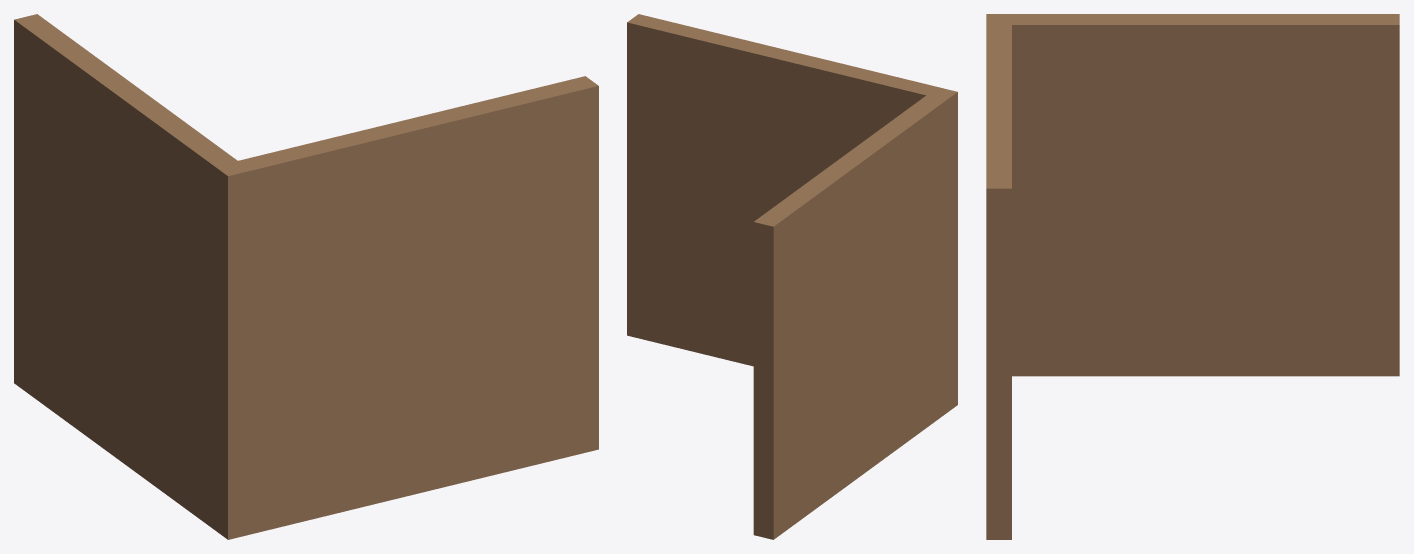
File: SM_Wall_Corner_Out.gltf
3 renders of one model, left to right at view 1: azimuth 30°, elevation 25°; view 2: azimuth 150°, elevation 25°; view 3: azimuth 270°, elevation 25°, orthographic. The views are drawn at different scales.
Visible parts, largest first — view 1: SM_Wall_Corner_Out; view 2: SM_Wall_Corner_Out; view 3: SM_Wall_Corner_Out.
Part boxes in pixels (box(x1,y1,x2,y2)): SM_Wall_Corner_Out: box(14, 14, 598, 539); SM_Wall_Corner_Out: box(627, 14, 957, 539); SM_Wall_Corner_Out: box(986, 14, 1399, 539).
Bounding box in the file's own units: 3.2 × 3 × 3.2.
1 material, 1 textured.
